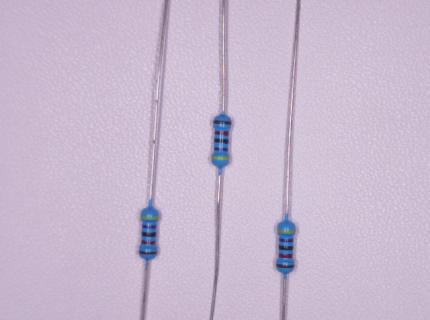Black band: (278, 245, 294, 251), (141, 231, 156, 237), (214, 138, 229, 144)
Brown band: (276, 263, 295, 269), (213, 119, 232, 125), (139, 250, 157, 255)
Red band: (141, 240, 156, 245), (278, 253, 293, 258), (214, 131, 229, 136)
Violet band: (213, 147, 228, 152), (142, 224, 156, 229), (279, 238, 293, 243)
Yellow band: (211, 155, 230, 161), (140, 215, 159, 220), (277, 228, 296, 233)
